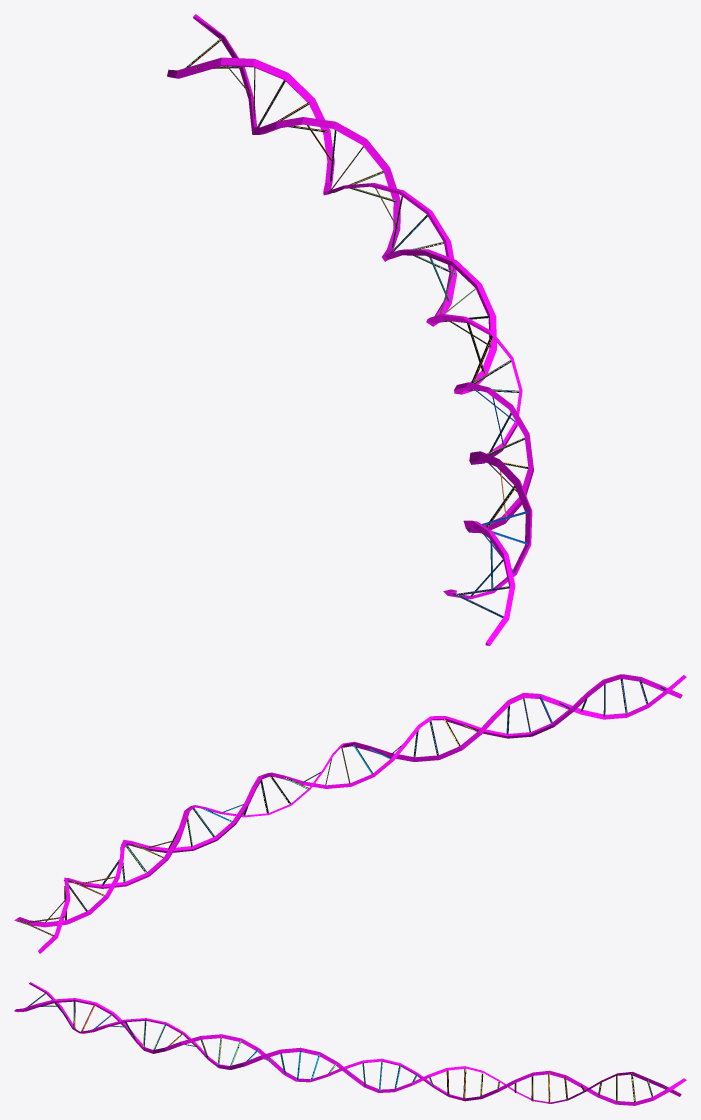
Rendered from Chromosome.fbx.
3 views of the same model, one above another, from view 1: azimuth 30°, elevation 25°; view 2: azimuth 150°, elevation 25°; view 3: azimuth 270°, elevation 25° (orthographic). The views are drawn at different scales.
Visible parts, largest first — view 1: chromosome_dna_outer_3, chromosome_dna_inner_3; view 2: chromosome_dna_outer_3, chromosome_dna_inner_3; view 3: chromosome_dna_outer_3, chromosome_dna_inner_3.
Boxes of the visible parts, box(x1,y1,x2,y2) form: chromosome_dna_outer_3: box(167, 14, 533, 645); chromosome_dna_inner_3: box(185, 38, 528, 617); chromosome_dna_outer_3: box(14, 674, 686, 953); chromosome_dna_inner_3: box(18, 678, 665, 936); chromosome_dna_outer_3: box(14, 982, 686, 1105); chromosome_dna_inner_3: box(27, 993, 667, 1104).
Bounding box in the file's own units: 12.4 × 1.81 × 34.53.
2 materials, 1 textured.
